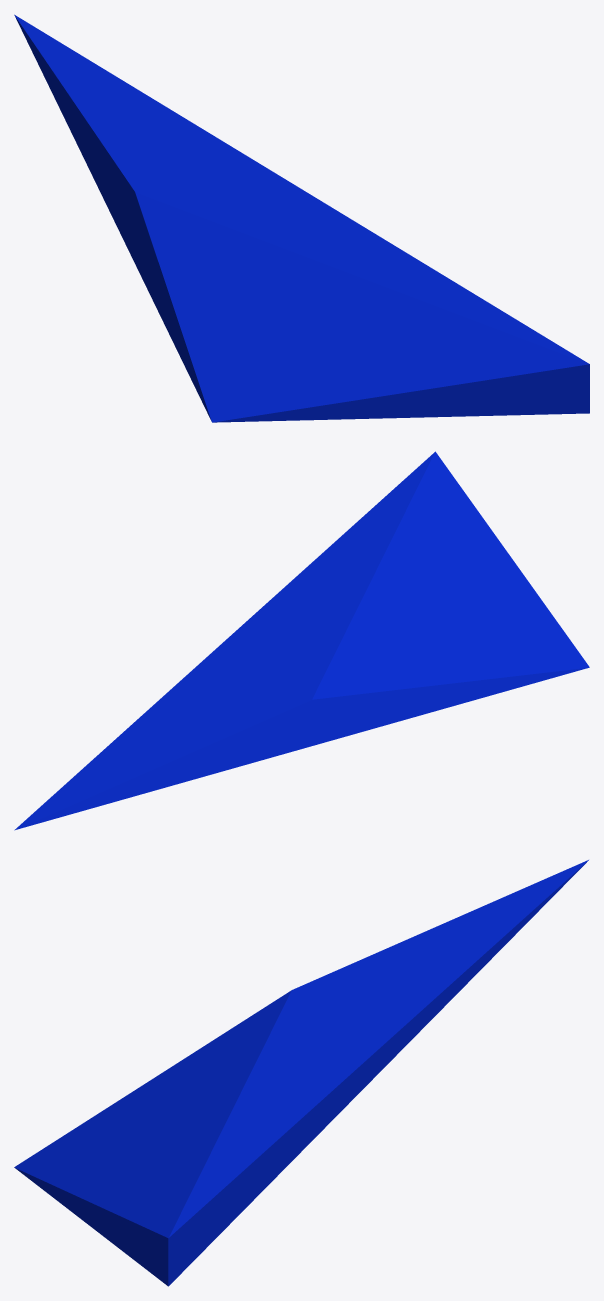
Rendered from coffee_convex_piece_012.obj.
3 renders of one model, top to bottom at view 1: azimuth 30°, elevation 25°; view 2: azimuth 150°, elevation 25°; view 3: azimuth 330°, elevation 25°, orthographic.
Bounding box in the file's own units: 9.1e-05 × 2.4e-05 × 0.000296.
